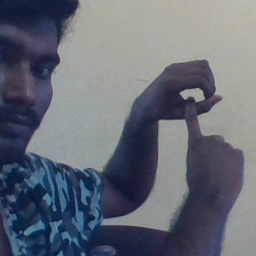Q: (150, 58, 248, 180)
